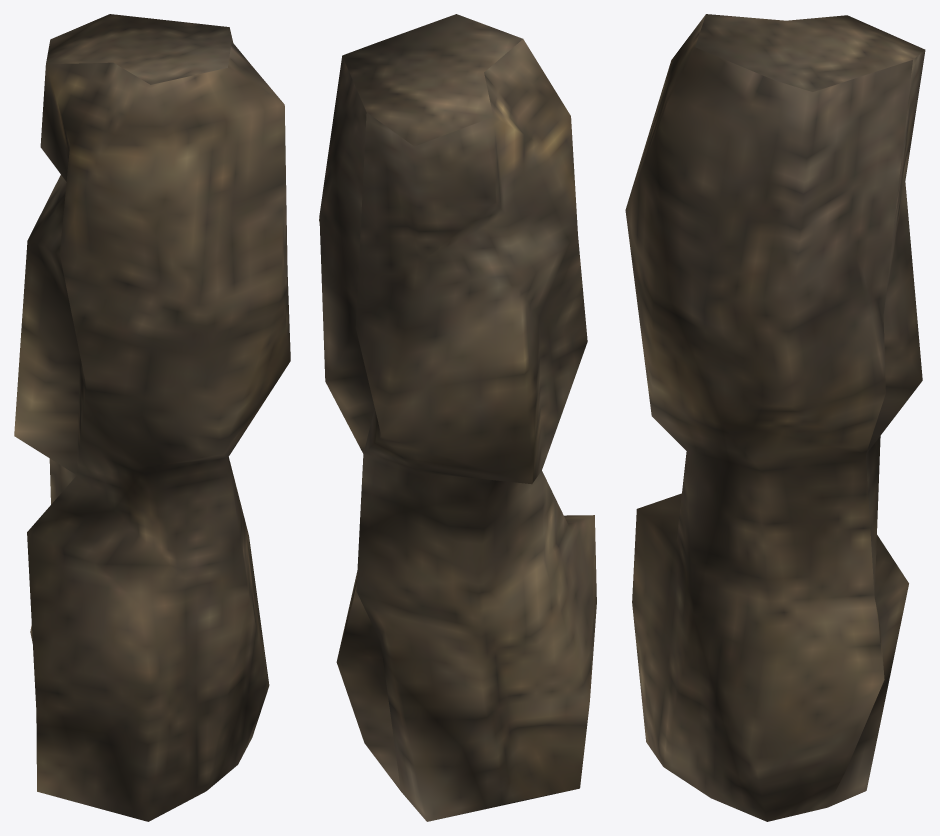
File: Rock01_10.FBX
The picture shows the model from 3 angles, left to right: view 1: azimuth 30°, elevation 25°; view 2: azimuth 150°, elevation 25°; view 3: azimuth 270°, elevation 25°; orthographic projection. The views are drawn at different scales.
Parts seen in each view (by area): view 1: Rock01_10; view 2: Rock01_10; view 3: Rock01_10.
Part boxes in pixels (<box>): Rock01_10: <box>14,14,290,821</box>; Rock01_10: <box>319,14,596,821</box>; Rock01_10: <box>625,14,925,821</box>.
Bounding box in the file's own units: 107 × 296 × 105.
1 material, 1 textured.
